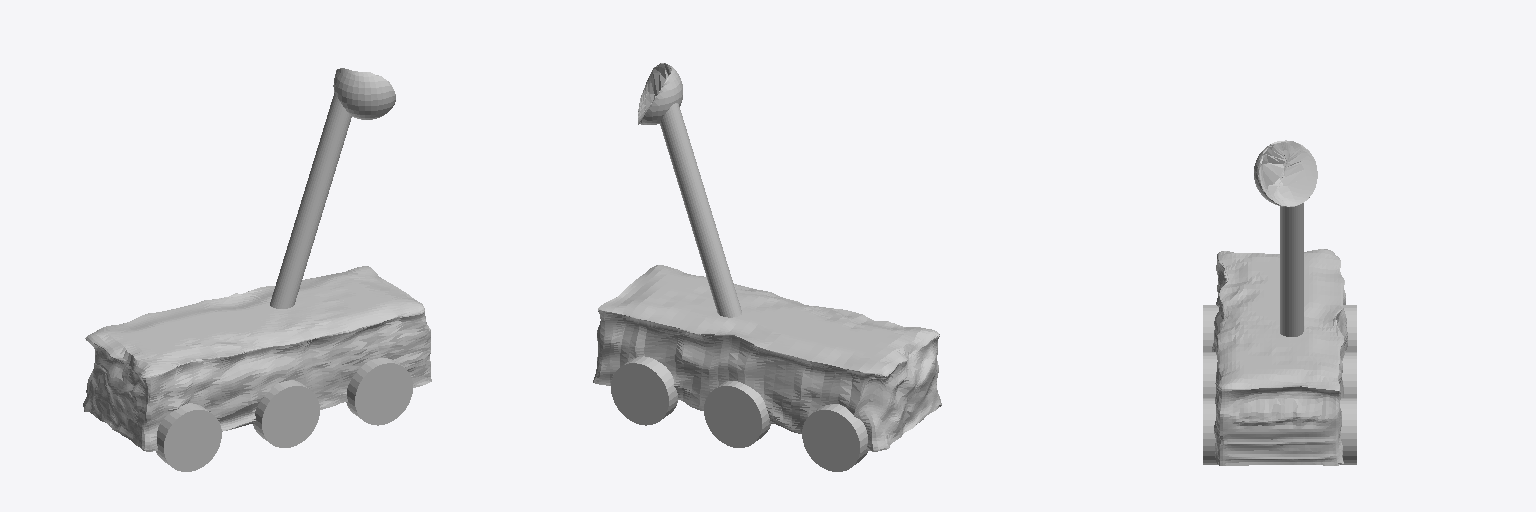
Rendered from rover.obj.
The picture shows the model from 3 angles: view 1: azimuth 30°, elevation 25°; view 2: azimuth 150°, elevation 25°; view 3: azimuth 270°, elevation 25°; orthographic projection.
Parts seen in each view (by area): view 1: Sphere; view 2: Sphere; view 3: Sphere.
Boxes of the visible parts, x1,y1,x2,y2 form: Sphere: [83, 68, 431, 471]; Sphere: [593, 63, 941, 471]; Sphere: [1203, 140, 1356, 465].
Size of the model in its own units: 10.09 by 10.66 by 4.61.